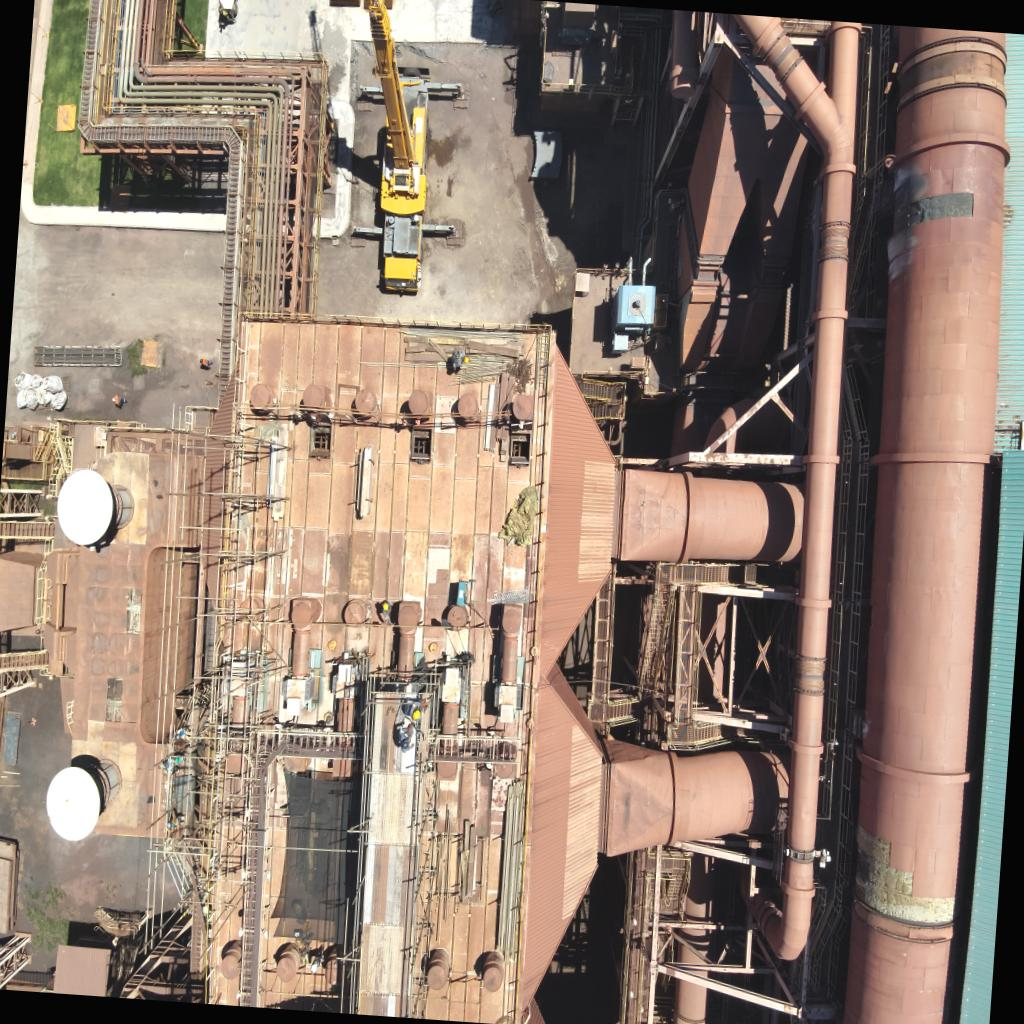Failures: (850, 821, 974, 928), (890, 185, 977, 224), (881, 214, 918, 288)
